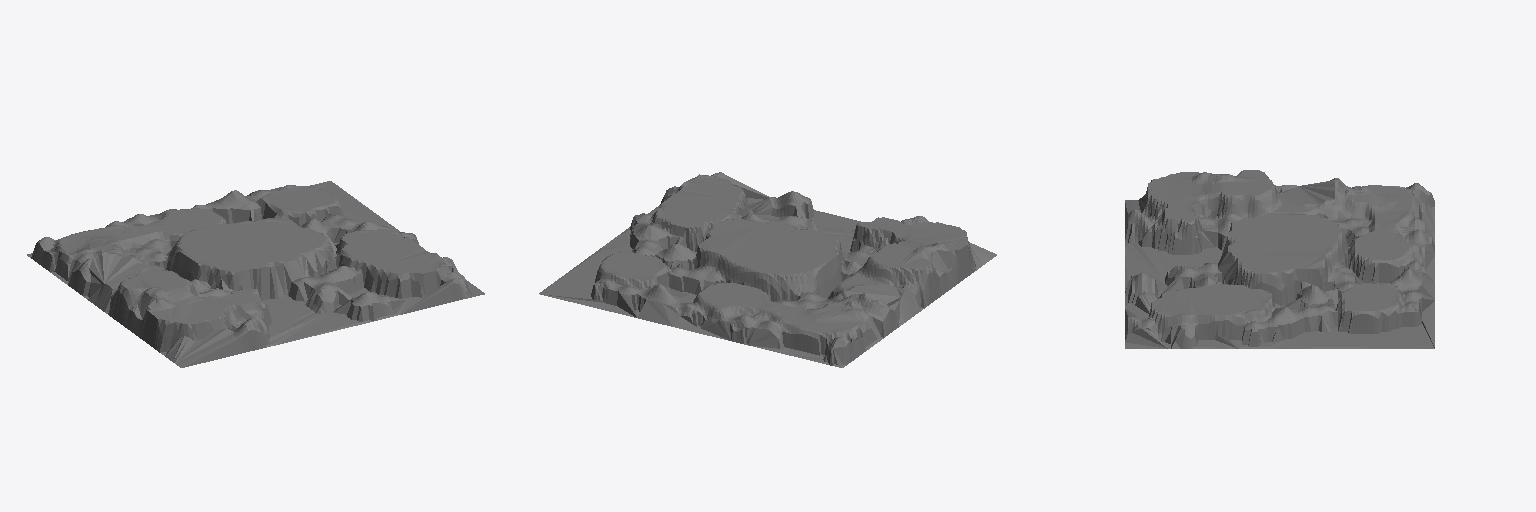
File: YMZ.obj
3 renders of one model, left to right at view 1: azimuth 30°, elevation 25°; view 2: azimuth 150°, elevation 25°; view 3: azimuth 270°, elevation 25°, orthographic.
Parts seen in each view (by area): view 1: YMZ_Mesh_03, YMZ_Mesh_08, YMZ_Mesh_06, YMZ_Mesh_02, YMZ_Mesh_09, YMZ_Mesh_05, YMZ_Mesh_04, YMZ_Mesh_01, YMZ_Mesh_07; view 2: YMZ_Mesh_03, YMZ_Mesh_07, YMZ_Mesh_04, YMZ_Mesh_09, YMZ_Mesh_05, YMZ_Mesh_02, YMZ_Mesh_06, YMZ_Mesh_08, YMZ_Mesh_01; view 3: YMZ_Mesh_03, YMZ_Mesh_06, YMZ_Mesh_07, YMZ_Mesh_05, YMZ_Mesh_04, YMZ_Mesh_08, YMZ_Mesh_02, YMZ_Mesh_01, YMZ_Mesh_09.
Boxes of the visible parts, <box> form: YMZ_Mesh_03: <box>164,217,356,300</box>; YMZ_Mesh_08: <box>118,279,353,367</box>; YMZ_Mesh_06: <box>294,218,484,325</box>; YMZ_Mesh_02: <box>336,229,449,298</box>; YMZ_Mesh_09: <box>27,236,210,321</box>; YMZ_Mesh_05: <box>111,270,265,336</box>; YMZ_Mesh_04: <box>50,208,226,264</box>; YMZ_Mesh_01: <box>211,186,343,231</box>; YMZ_Mesh_07: <box>191,181,390,225</box>; YMZ_Mesh_03: <box>695,213,843,301</box>; YMZ_Mesh_07: <box>539,246,767,340</box>; YMZ_Mesh_04: <box>694,282,878,355</box>; YMZ_Mesh_09: <box>730,261,933,367</box>; YMZ_Mesh_05: <box>853,217,972,295</box>; YMZ_Mesh_02: <box>645,174,749,251</box>; YMZ_Mesh_06: <box>599,172,823,269</box>; YMZ_Mesh_08: <box>813,212,996,300</box>; YMZ_Mesh_01: <box>595,244,696,306</box>; YMZ_Mesh_03: <box>1205,213,1348,302</box>; YMZ_Mesh_06: <box>1125,263,1317,348</box>; YMZ_Mesh_07: <box>1315,244,1434,348</box>; YMZ_Mesh_05: <box>1148,170,1277,240</box>; YMZ_Mesh_04: <box>1335,178,1428,267</box>; YMZ_Mesh_08: <box>1125,187,1242,284</box>; YMZ_Mesh_02: <box>1150,283,1274,339</box>; YMZ_Mesh_01: <box>1298,268,1421,333</box>; YMZ_Mesh_09: <box>1253,178,1434,253</box>.
Size of the model in its own units: 168 by 19.54 by 149.